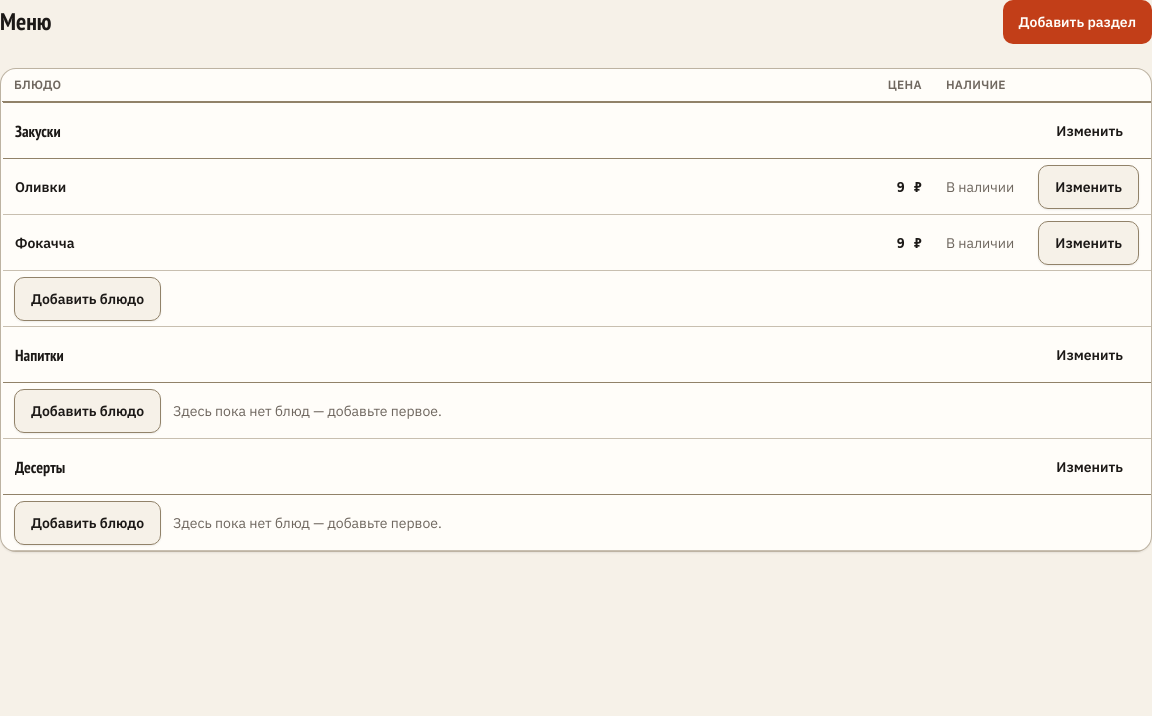
Test case: MenuTable › opens a new dish inside the category it was asked for
Click the button "Добавить блюдо" below "Фокачча" at x=88, y=298, box [14, 276, 161, 320]
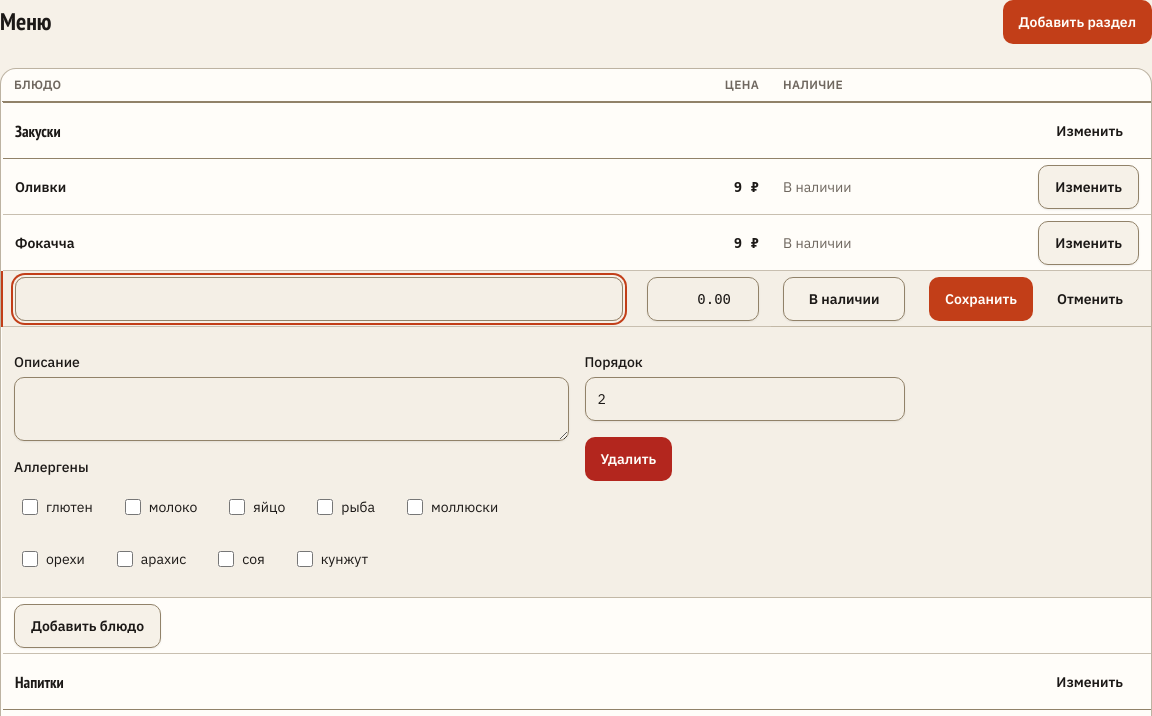
Expected: the field named "Название" is empty, [15, 276, 623, 320]
Expected: the number of fields named "Название" is 1, [15, 276, 623, 320]
